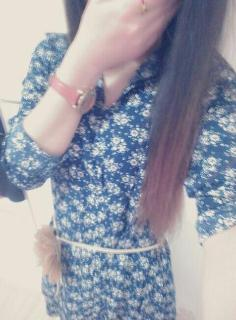long sleeve dress: (0, 29, 236, 319)
